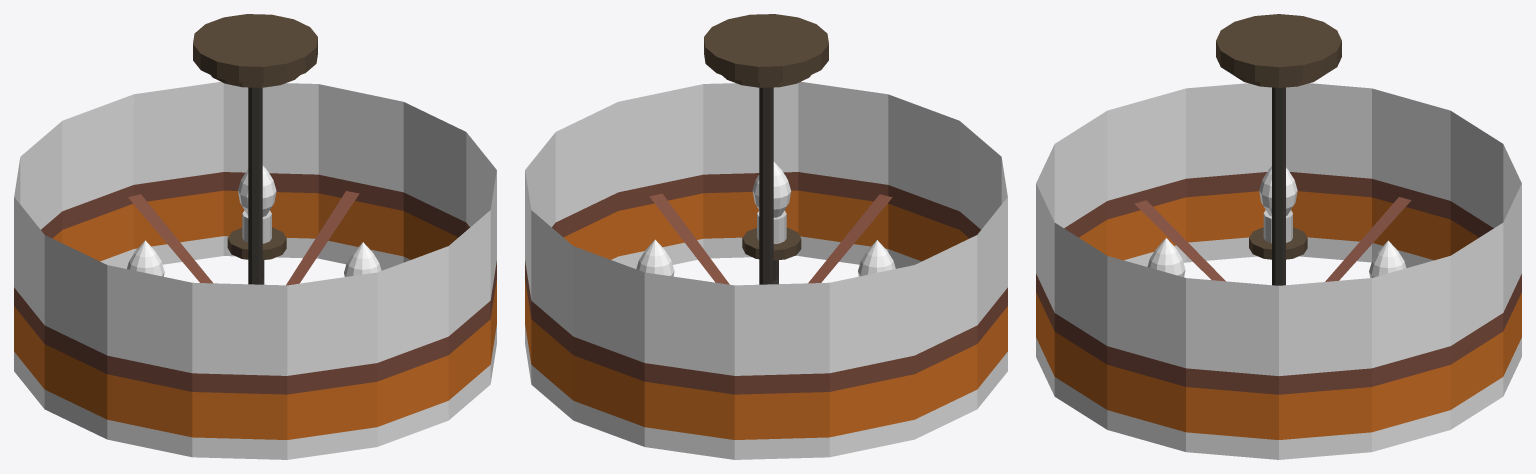
The model's file is SM_Lamp_06.glb.
3 views of the same model, side by side, from view 1: azimuth 30°, elevation 25°; view 2: azimuth 150°, elevation 25°; view 3: azimuth 270°, elevation 25° (orthographic).
Visible parts, largest first — view 1: SM_Lamp_06; view 2: SM_Lamp_06; view 3: SM_Lamp_06.
Boxes of the visible parts, x1=… form: SM_Lamp_06: x1=14, y1=14, x2=496, y2=459; SM_Lamp_06: x1=525, y1=14, x2=1007, y2=459; SM_Lamp_06: x1=1036, y1=14, x2=1521, y2=459.
Bounding box in the file's own units: 0.942 × 0.6809 × 0.942.
Materials: 1 (1 with a texture image).
